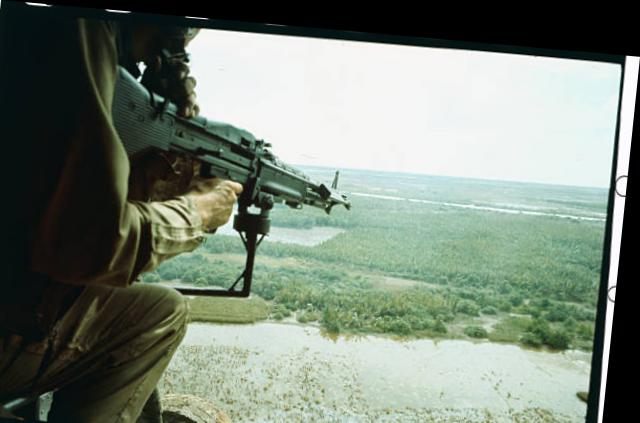other: (0, 0, 258, 422)
